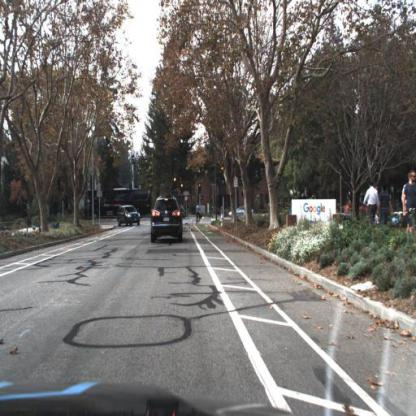biker: (194, 202, 202, 226)
car: (150, 195, 184, 242), (115, 205, 143, 229), (228, 205, 256, 220)
pedestrian: (403, 170, 416, 237), (364, 181, 381, 228), (379, 182, 394, 230)
truck: (84, 188, 154, 219), (85, 190, 152, 219)
